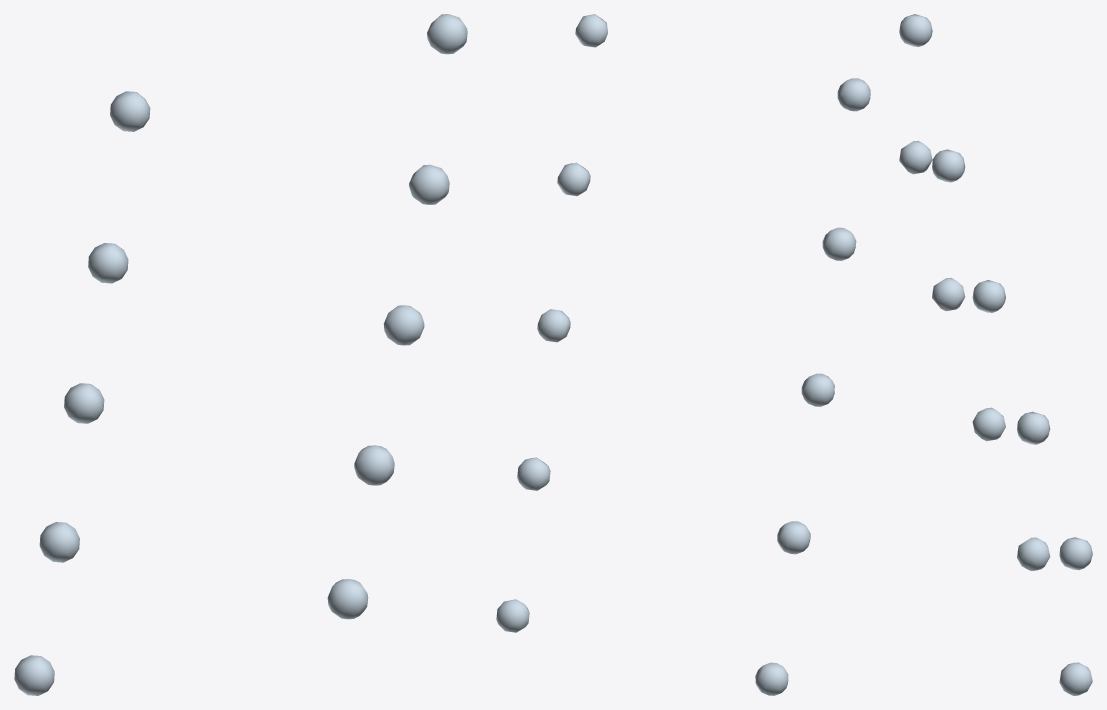
File: linfatico-paratracheal-thoracic-nodes.glb
3 views of the same model, side by side, from view 1: azimuth 30°, elevation 25°; view 2: azimuth 150°, elevation 25°; view 3: azimuth 270°, elevation 25° (orthographic). The views are drawn at different scales.
Visible parts, largest first — view 1: Paratracheal thoracic nodes; view 2: Paratracheal thoracic nodes; view 3: Paratracheal thoracic nodes.
Part boxes in pixels (x1,y1,x2,y2): Paratracheal thoracic nodes: [14, 14, 467, 695]; Paratracheal thoracic nodes: [496, 14, 870, 695]; Paratracheal thoracic nodes: [899, 14, 1092, 695].
Size of the model in its own units: 0.0258 by 0.0466 by 0.0148.
